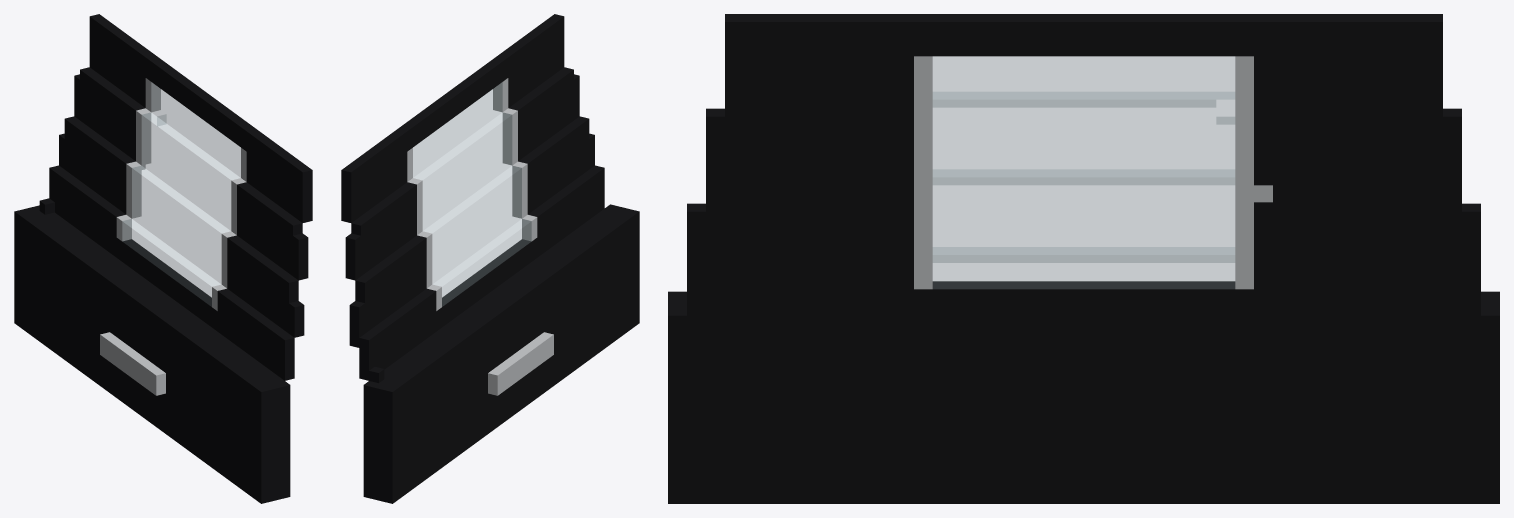
The model's file is hearse_tailgate.glb.
3 renders of one model, left to right at view 1: azimuth 30°, elevation 25°; view 2: azimuth 150°, elevation 25°; view 3: azimuth 270°, elevation 25°, orthographic. The views are drawn at different scales.
Visible parts, largest first — view 1: body:compound; view 2: body:compound; view 3: body:compound.
Boxes of the visible parts, bbox=[...] form: body:compound: bbox=[14, 14, 312, 503]; body:compound: bbox=[341, 14, 639, 503]; body:compound: bbox=[668, 14, 1499, 503].
Bounding box in the file's own units: 0.25 × 0.9375 × 1.38.
